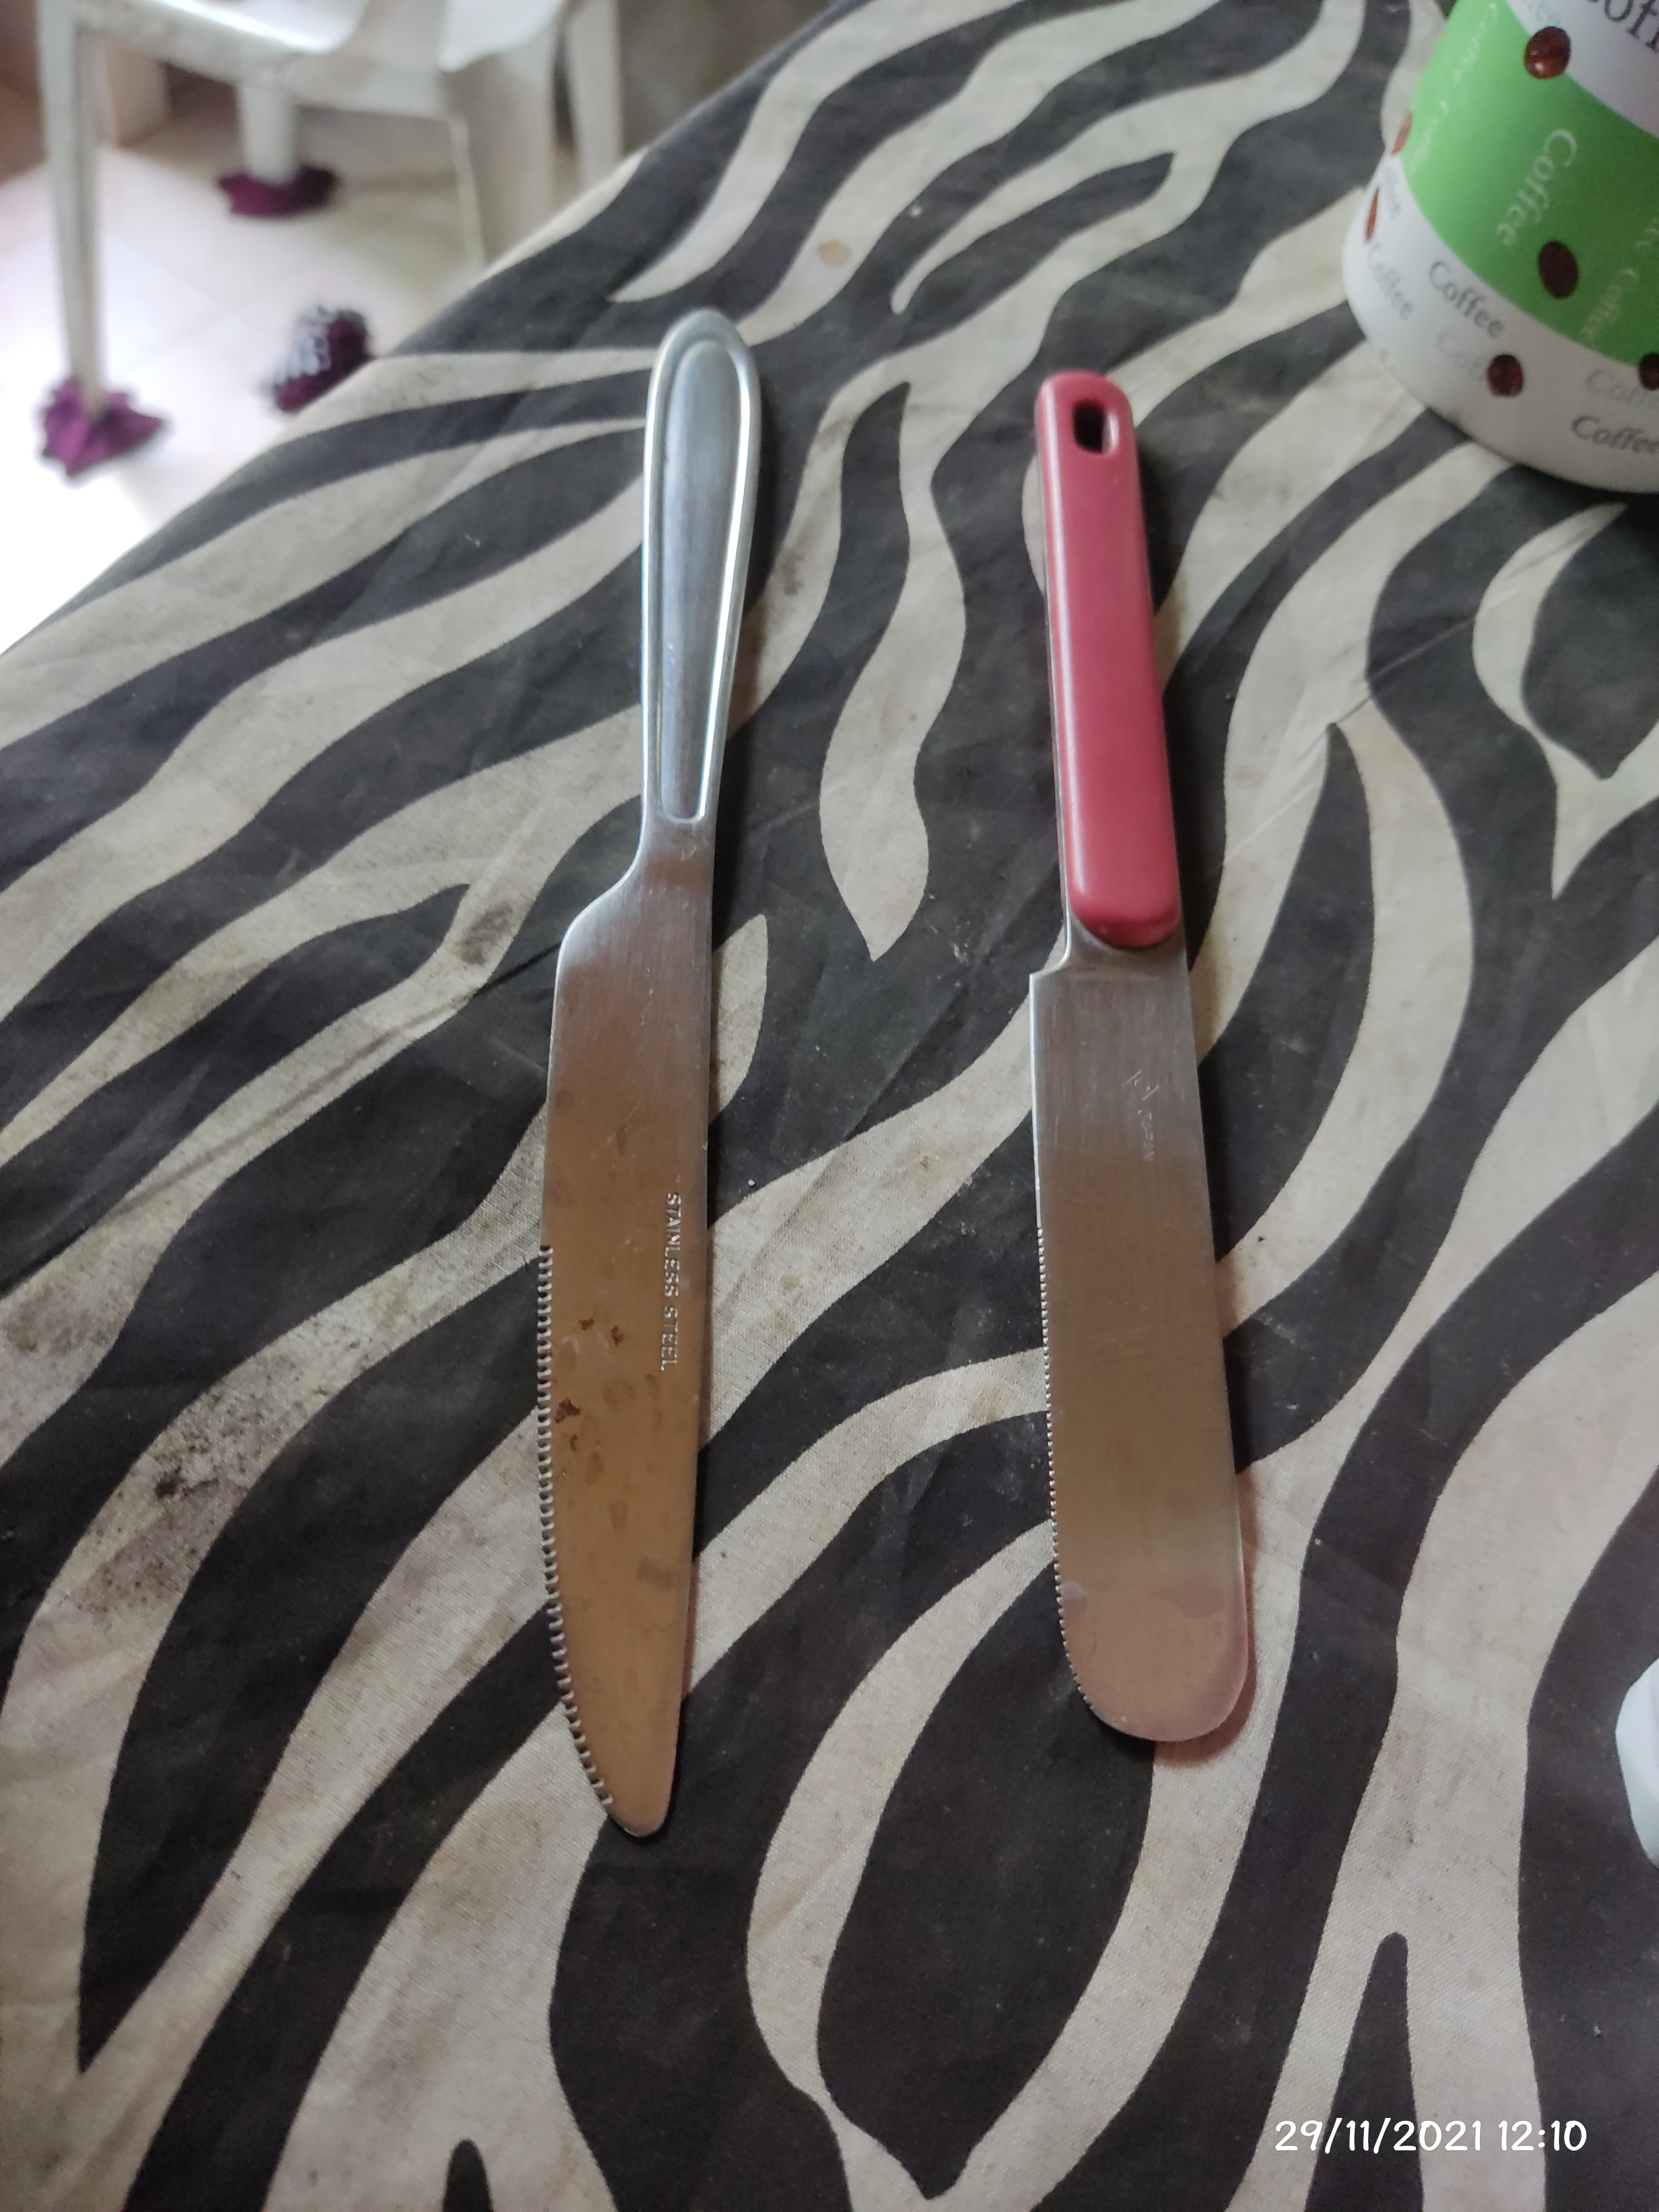knife: (526, 307, 793, 1848)
